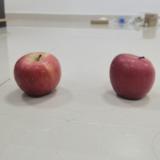apple: (109, 53, 156, 100), (14, 52, 61, 98)
